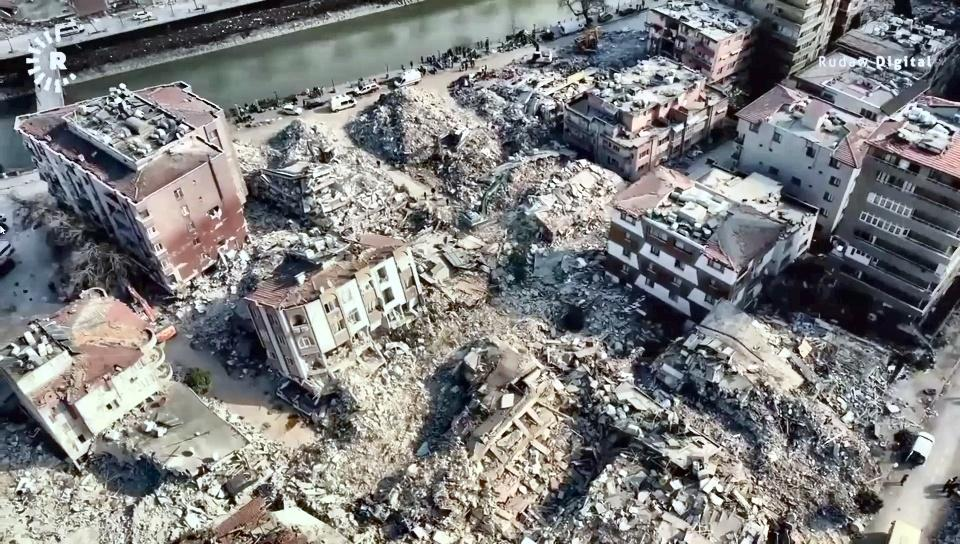kapali: (221, 372, 510, 543)
